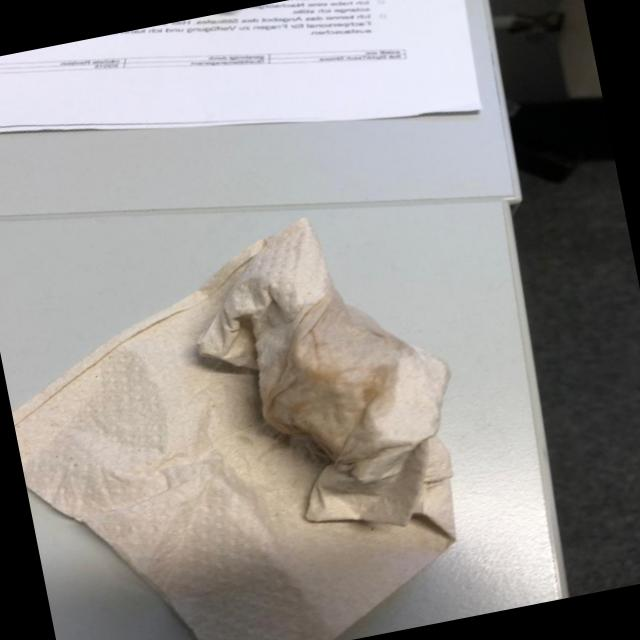organic waste: (0, 190, 499, 640)
